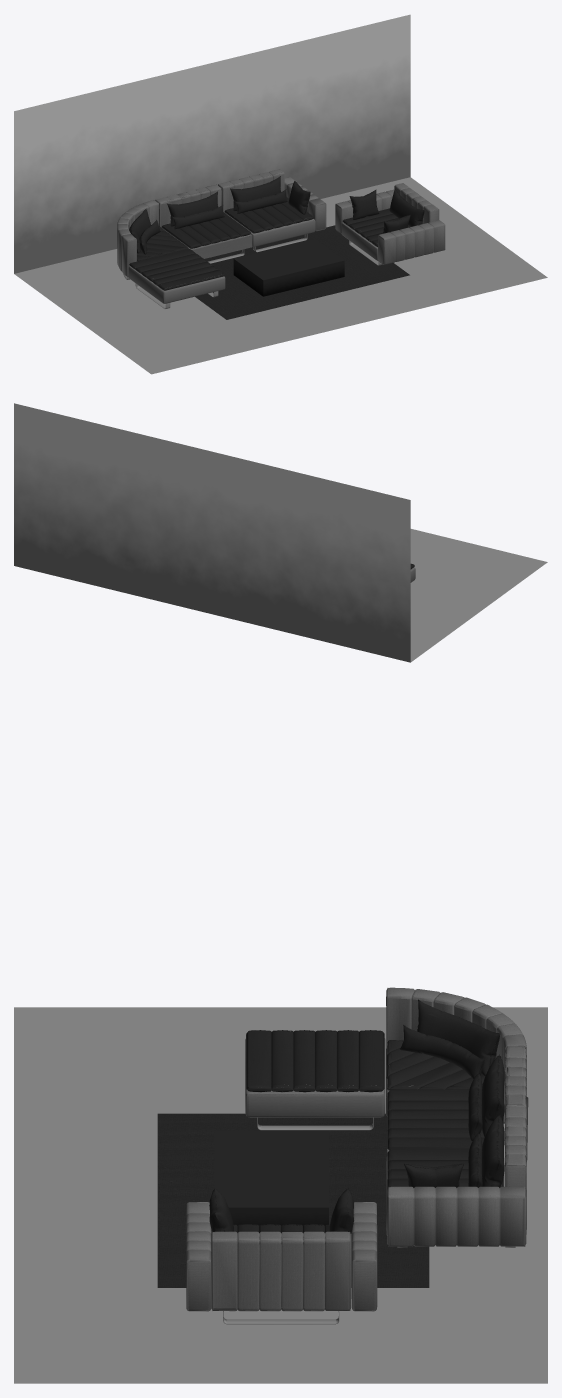
The model's file is sofa_set_01_spanstories.glb.
3 views of the same model, one above another, from view 1: azimuth 30°, elevation 25°; view 2: azimuth 150°, elevation 25°; view 3: azimuth 270°, elevation 25° (orthographic). The views are drawn at different scales.
Parts seen in each view (by area): view 1: Plane.004_Material.002_0, Plane.004_Material.001_0, Plane_Sofa_Dark_0, Cube.003_Material.005_0, Box040.003_Sofa_Gray_0, Box040.002_Sofa_Gray_0, Box044.001_Sofa_Dark_0, Box040_Sofa_Gray_0, Box040_Sofa_Dark_0, Box040.002_Sofa_Dark_0, Box040.001_Sofa_Gray_0, Box044.001_Sofa_Gray_0 (+9 smaller); view 2: Plane.004_Material.002_0, Plane.004_Material.001_0; view 3: Plane.004_Material.001_0, Box040.003_Sofa_Gray_0, Plane_Sofa_Dark_0, Cube.003_Material.005_0, Box040.002_Sofa_Gray_0, Box044.001_Sofa_Dark_0, Box040_Sofa_Dark_0, Box040.001_Sofa_Gray_0, Box044.001_Sofa_Gray_0, Box040.004_Sofa_Dark_0, Cube.010_Sofa_Dark_0, Box040.002_Sofa_Dark_0 (+5 smaller).
Part boxes in pixels (x1,y1,x2,y2): Plane.004_Material.002_0: (14, 14, 410, 273); Plane.004_Material.001_0: (14, 177, 547, 374); Plane_Sofa_Dark_0: (195, 225, 409, 319); Cube.003_Material.005_0: (233, 239, 344, 296); Box040.003_Sofa_Gray_0: (335, 183, 445, 264); Box040.002_Sofa_Gray_0: (218, 169, 326, 246); Box044.001_Sofa_Dark_0: (129, 249, 224, 290); Box040_Sofa_Gray_0: (155, 184, 252, 258); Box040_Sofa_Dark_0: (162, 212, 250, 248); Box040.002_Sofa_Dark_0: (224, 196, 314, 233); Box040.001_Sofa_Gray_0: (117, 200, 159, 277); Box044.001_Sofa_Gray_0: (128, 266, 225, 303); Plane.004_Material.002_0: (14, 403, 410, 662); Plane.004_Material.001_0: (410, 529, 547, 662); Plane.004_Material.001_0: (14, 1007, 547, 1383); Box040.003_Sofa_Gray_0: (186, 1202, 377, 1311); Plane_Sofa_Dark_0: (157, 1113, 429, 1287); Cube.003_Material.005_0: (214, 1130, 328, 1225); Box040.002_Sofa_Gray_0: (386, 1106, 526, 1246); Box044.001_Sofa_Dark_0: (246, 1030, 384, 1092); Box040_Sofa_Dark_0: (387, 1090, 503, 1150); Box040.001_Sofa_Gray_0: (386, 987, 526, 1116); Box044.001_Sofa_Gray_0: (245, 1038, 385, 1117); Box040.004_Sofa_Dark_0: (386, 1040, 485, 1090); Cube.010_Sofa_Dark_0: (417, 999, 500, 1076); Box040.002_Sofa_Dark_0: (387, 1149, 503, 1188).
Bounding box in the file's own units: 12.62 × 4.95 × 7.57.
Materials: 6 (4 with a texture image).
